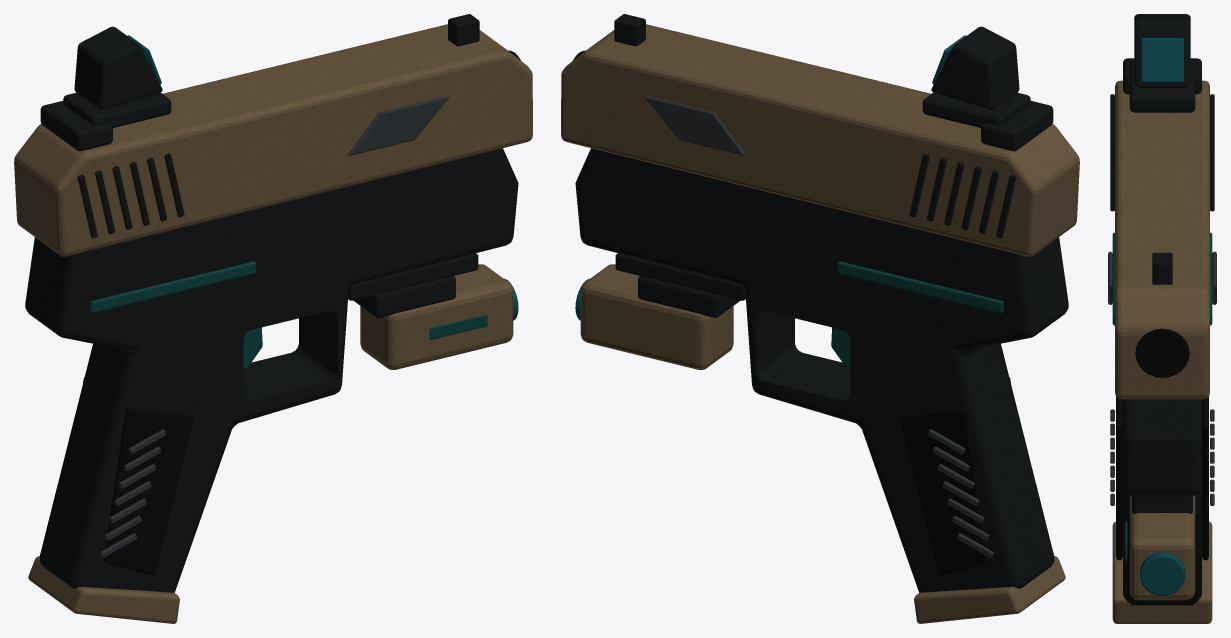
File: mote03.compact_optic.glb
The picture shows the model from 3 angles, left to right: view 1: azimuth 30°, elevation 25°; view 2: azimuth 150°, elevation 25°; view 3: azimuth 270°, elevation 25°; orthographic projection.
Visible parts, largest first — view 1: mote03.compact_optic__root, mote03.compact_optic__slide, mote03.compact_optic__light, mote03.compact_optic__sight, mote03.compact_optic__magazine; view 2: mote03.compact_optic__root, mote03.compact_optic__slide, mote03.compact_optic__light, mote03.compact_optic__sight, mote03.compact_optic__magazine; view 3: mote03.compact_optic__slide, mote03.compact_optic__root, mote03.compact_optic__light, mote03.compact_optic__sight, mote03.compact_optic__magazine.
Part boxes in pixels (bbox=[...]): mote03.compact_optic__root: bbox=[25, 148, 518, 592]; mote03.compact_optic__slide: bbox=[14, 14, 532, 256]; mote03.compact_optic__light: bbox=[353, 264, 518, 369]; mote03.compact_optic__sight: bbox=[63, 26, 171, 127]; mote03.compact_optic__magazine: bbox=[28, 556, 179, 623]; mote03.compact_optic__root: bbox=[575, 148, 1068, 592]; mote03.compact_optic__slide: bbox=[561, 14, 1079, 256]; mote03.compact_optic__light: bbox=[575, 264, 740, 369]; mote03.compact_optic__sight: bbox=[922, 26, 1030, 127]; mote03.compact_optic__magazine: bbox=[914, 556, 1065, 623]; mote03.compact_optic__slide: bbox=[1108, 58, 1216, 399]; mote03.compact_optic__root: bbox=[1110, 232, 1214, 605]; mote03.compact_optic__light: bbox=[1125, 495, 1195, 600]; mote03.compact_optic__sight: bbox=[1129, 14, 1195, 112]; mote03.compact_optic__magazine: bbox=[1112, 521, 1212, 623].
Bounding box in the file's own units: 0.2493 × 0.2869 × 0.048.
Materials: 6 (6 with a texture image).
